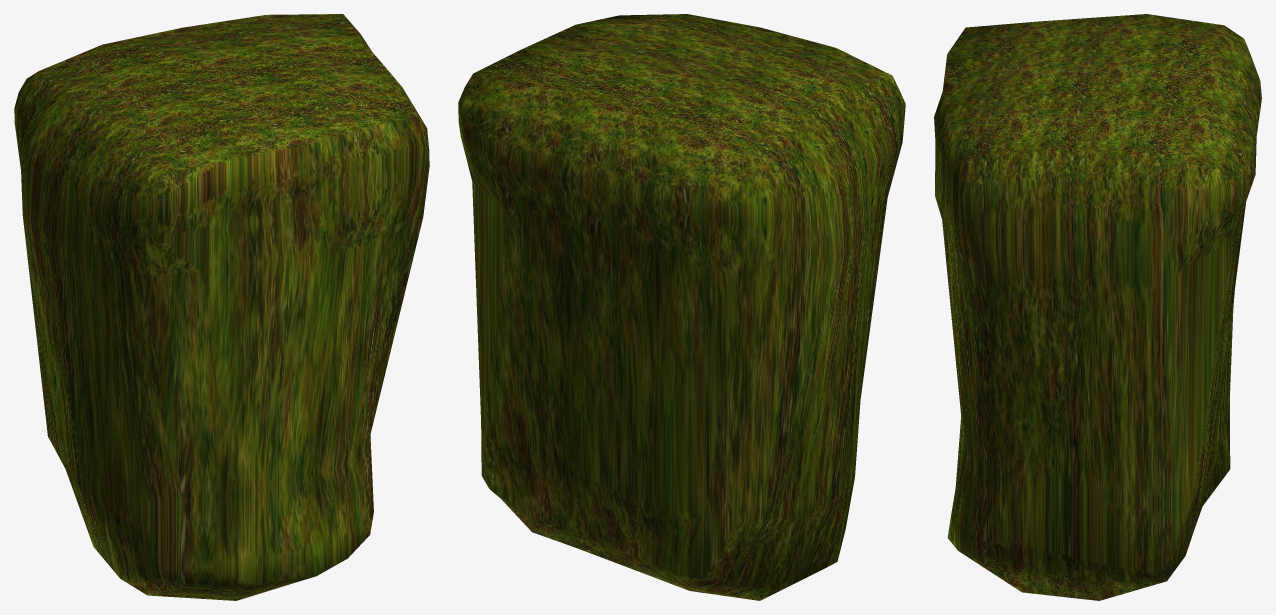
The model's file is LVL_ROAST_MUTTON_ROCK02.fbx.
The picture shows the model from 3 angles, left to right: view 1: azimuth 30°, elevation 25°; view 2: azimuth 150°, elevation 25°; view 3: azimuth 270°, elevation 25°; orthographic projection. The views are drawn at different scales.
Visible parts, largest first — view 1: LVL_ROAST_MUTTON_ROCK02; view 2: LVL_ROAST_MUTTON_ROCK02; view 3: LVL_ROAST_MUTTON_ROCK02.
Boxes of the visible parts, left/top/right/bottom form: LVL_ROAST_MUTTON_ROCK02: left=14, top=14, right=429, bottom=600; LVL_ROAST_MUTTON_ROCK02: left=458, top=14, right=905, bottom=600; LVL_ROAST_MUTTON_ROCK02: left=934, top=14, right=1261, bottom=600.
Size of the model in its own units: 70730 by 97088 by 56805.
1 material, 1 textured.
